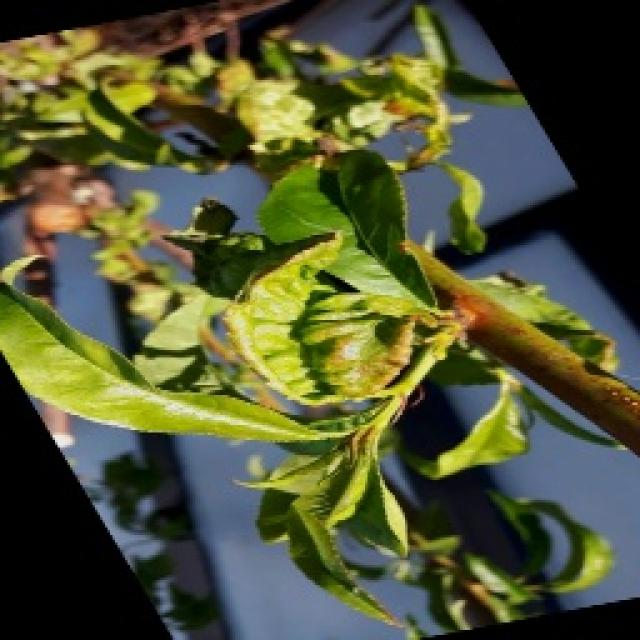peach_leaf_curl: (0, 0, 638, 638), (220, 228, 450, 408)
